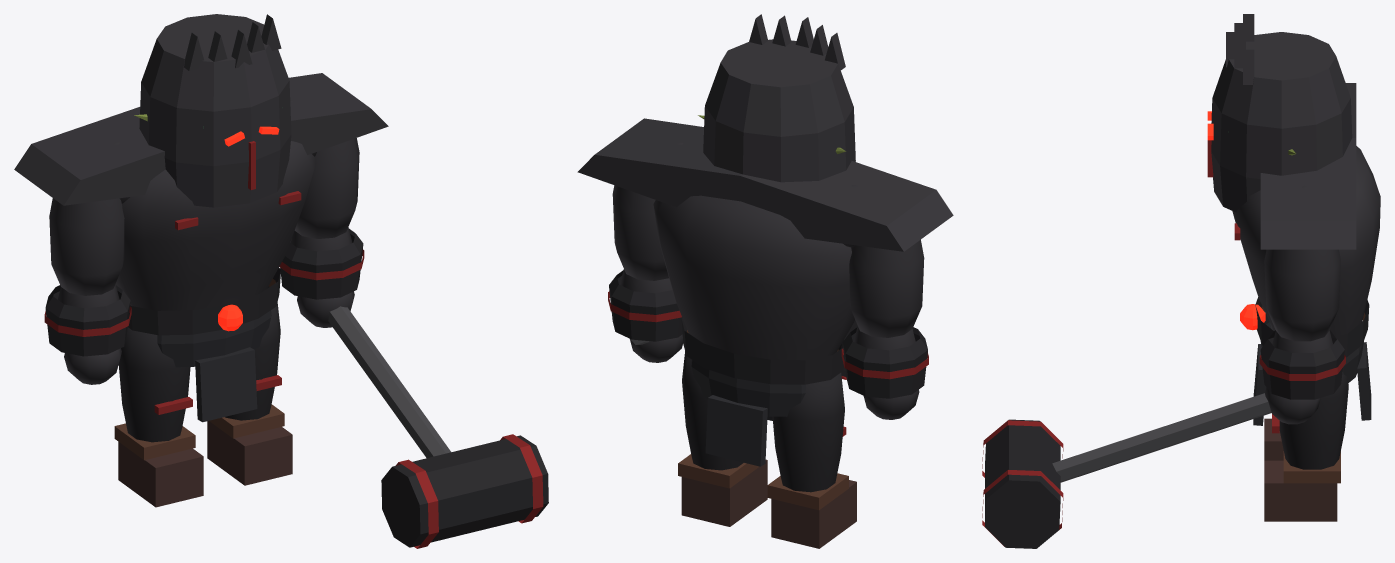
The model's file is orc_boss.glb.
The picture shows the model from 3 angles, left to right: view 1: azimuth 30°, elevation 25°; view 2: azimuth 150°, elevation 25°; view 3: azimuth 270°, elevation 25°; orthographic projection. The views are drawn at different scales.
Visible parts, largest first — view 1: Body, ArmR, Head, ArmL, LegL, LegR; view 2: Body, Head, ArmL, LegL, ArmR, LegR; view 3: ArmR, Head, Body, LegR, LegL.
Part boxes in pixels (bbox=[...]): Body: bbox=[14, 73, 388, 422]; ArmR: bbox=[279, 138, 548, 548]; Head: bbox=[134, 14, 291, 207]; ArmL: bbox=[44, 198, 131, 384]; LegL: bbox=[114, 327, 203, 507]; LegR: bbox=[207, 302, 292, 485]; Body: bbox=[577, 118, 953, 466]; Head: bbox=[698, 14, 855, 182]; ArmL: bbox=[841, 239, 928, 419]; LegL: bbox=[767, 373, 856, 548]; ArmR: bbox=[608, 185, 857, 379]; LegR: bbox=[678, 351, 767, 526]; ArmR: bbox=[982, 249, 1345, 548]; Head: bbox=[1207, 14, 1352, 212]; Body: bbox=[1232, 83, 1380, 425]; LegR: bbox=[1264, 371, 1348, 521]; LegL: bbox=[1264, 418, 1283, 460].
Bounding box in the file's own units: 2.01 × 2.63 × 2.08.
